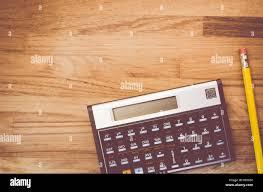Calculator: (82, 77, 237, 176)
